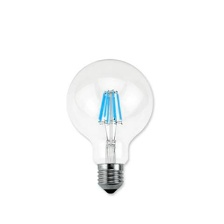light_bulb: (62, 52, 157, 199)
